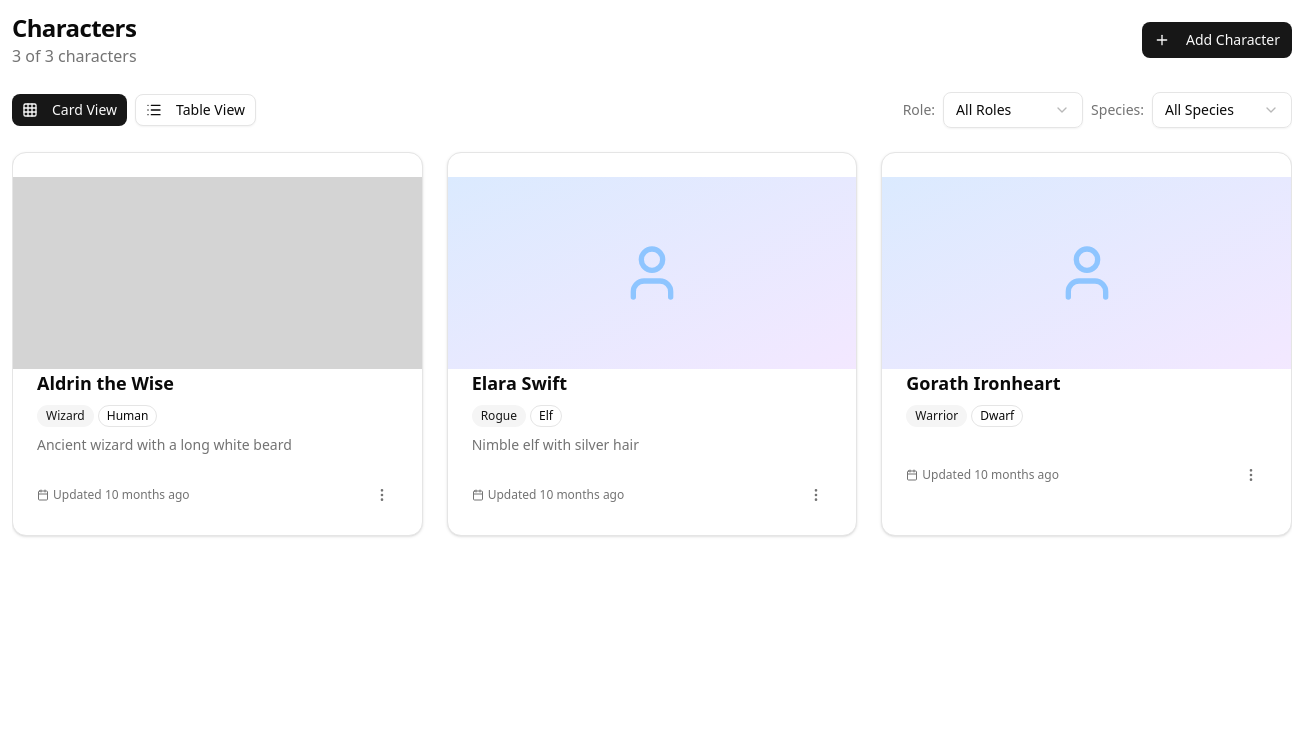
it: CharactersList › View Modes › switches to table view when table view button is clicked
Step 1. Click the button "Table View" → [196, 110], box left=135, top=94, right=256, bottom=126
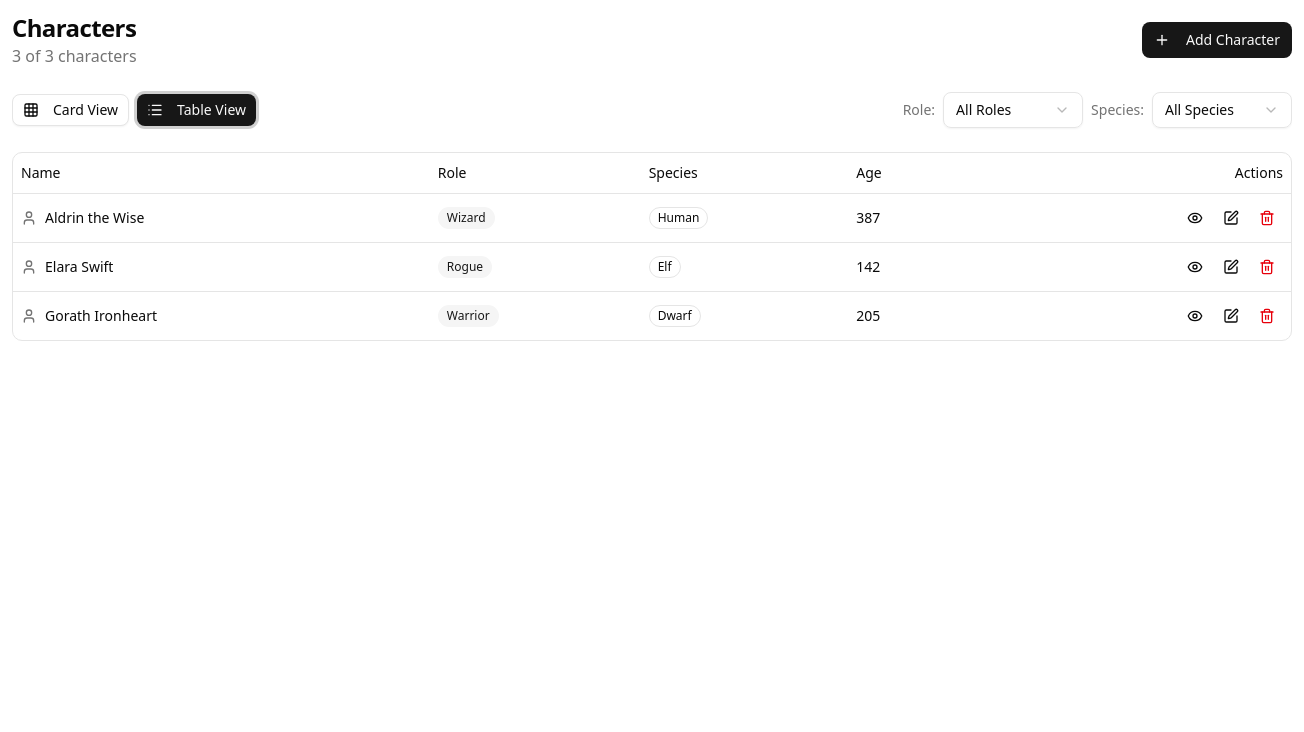
Now the column heading "Name" is shown, box left=13, top=153, right=430, bottom=193
Now the column heading "Role" is shown, box left=430, top=153, right=641, bottom=193
Now the column heading "Species" is shown, box left=641, top=153, right=848, bottom=193
